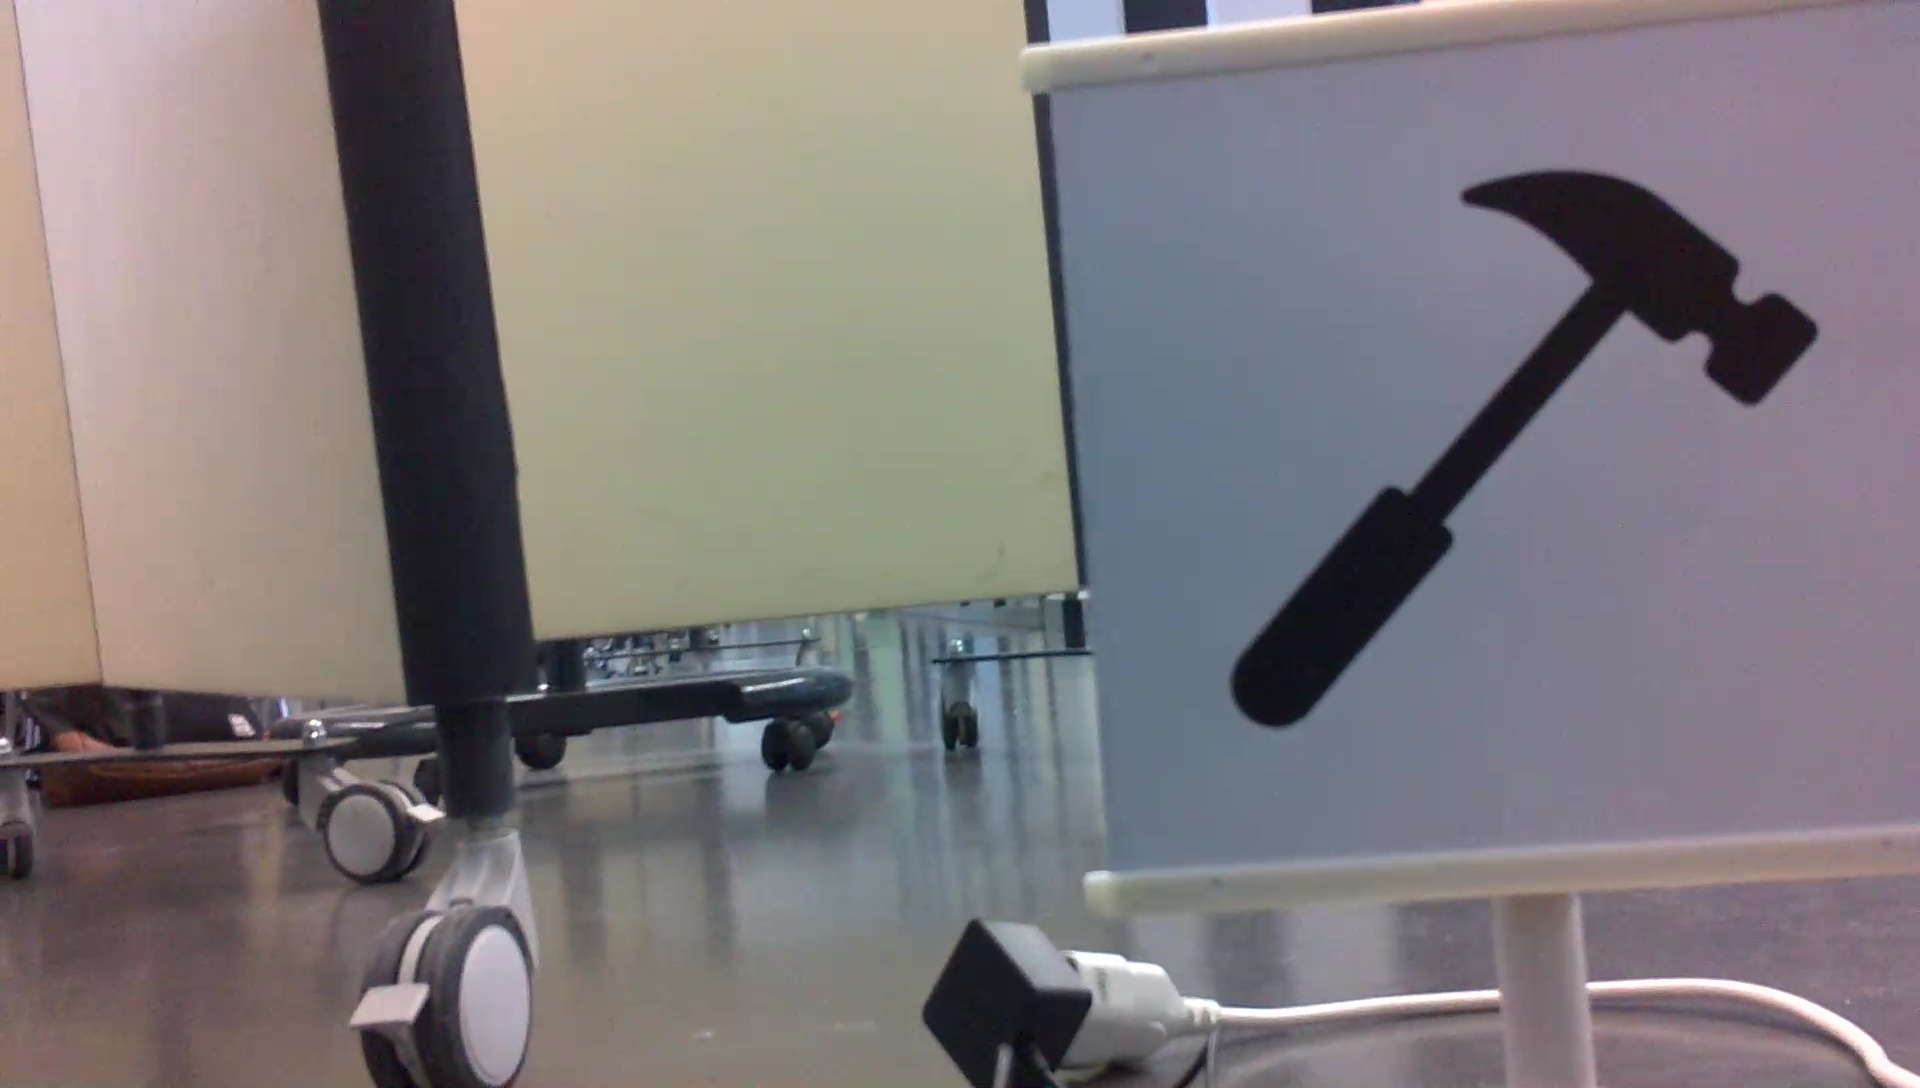hammer: (1218, 167, 1826, 735)
